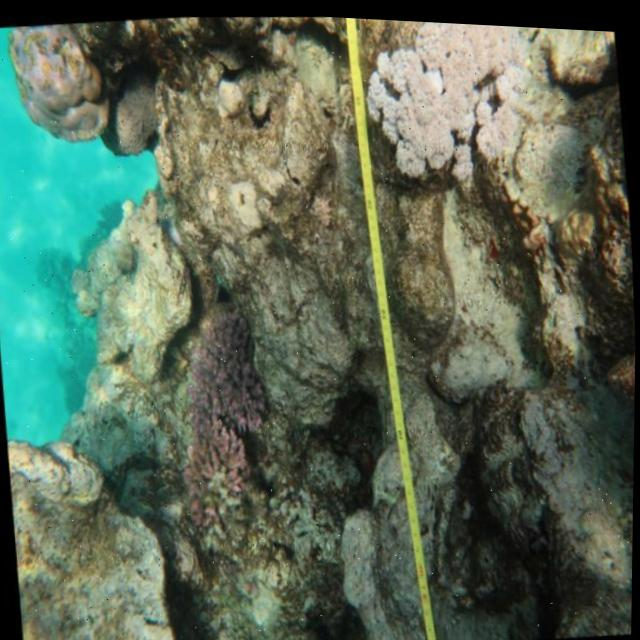Bleached Coral: (349, 14, 535, 186)
Healthy Coral: (164, 295, 275, 492)
